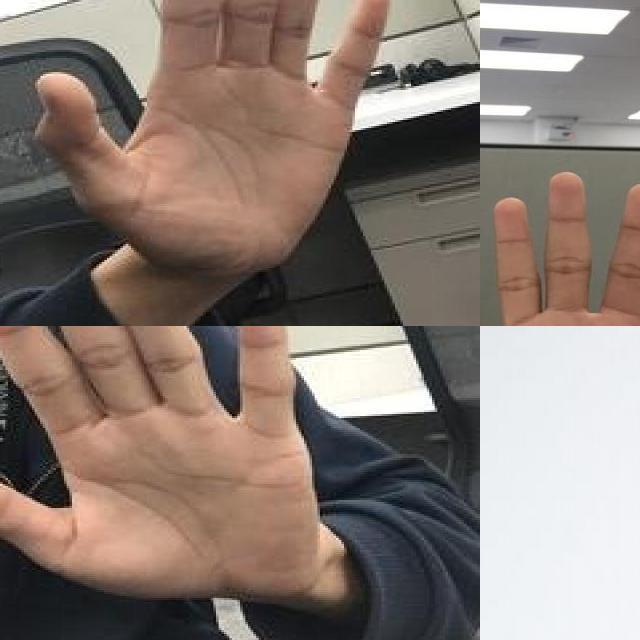hand: (37, 0, 397, 276), (0, 326, 323, 598), (480, 168, 640, 326)
